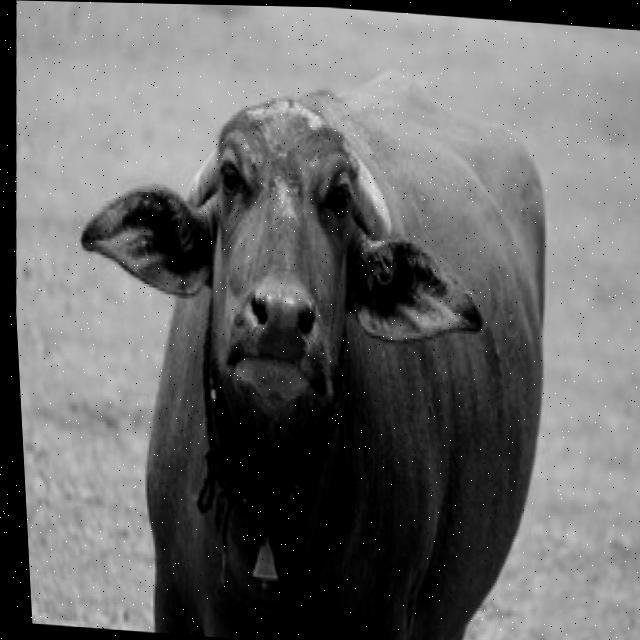Buffalo: (47, 37, 579, 640)
